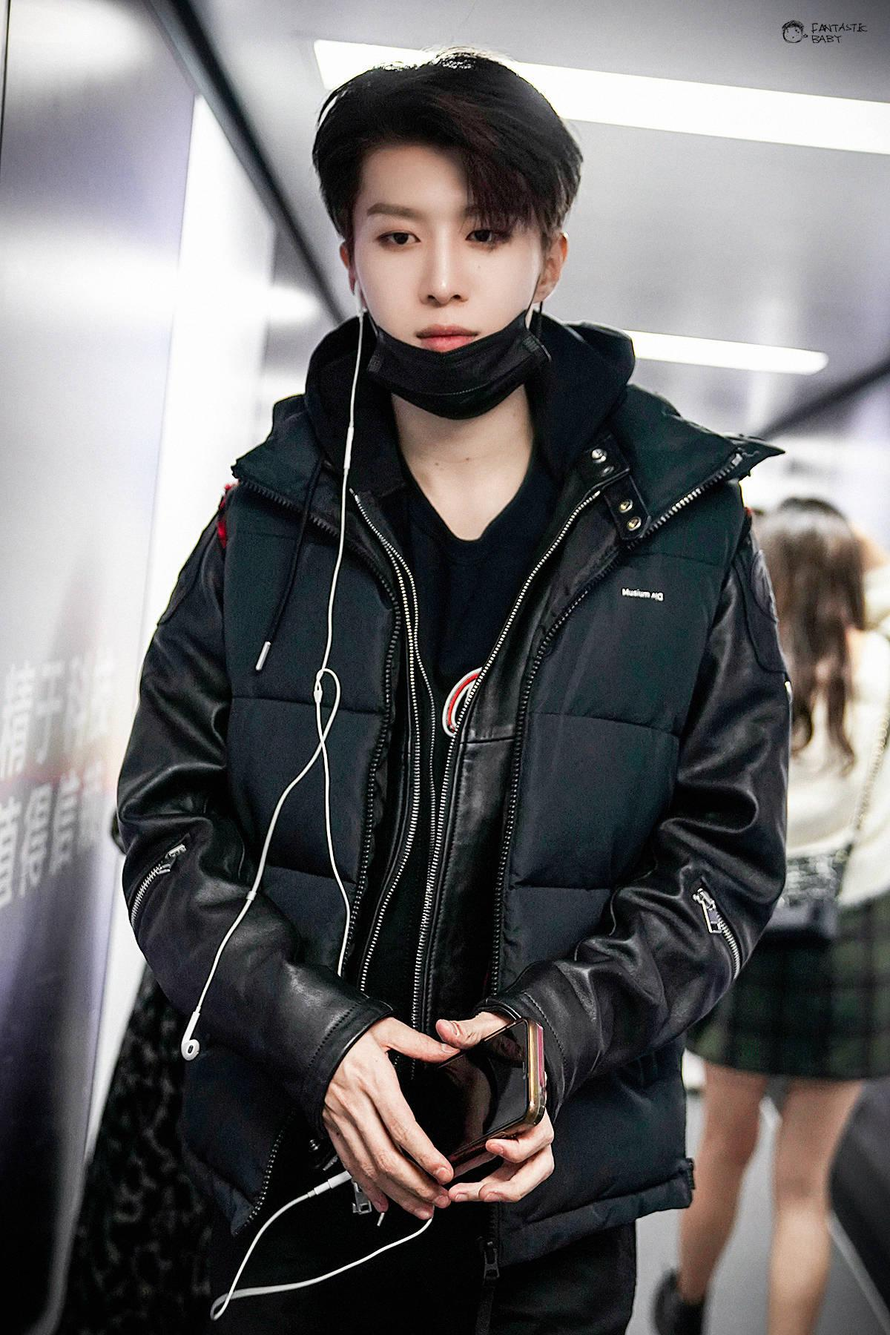WRONG: (356, 179, 538, 412)
